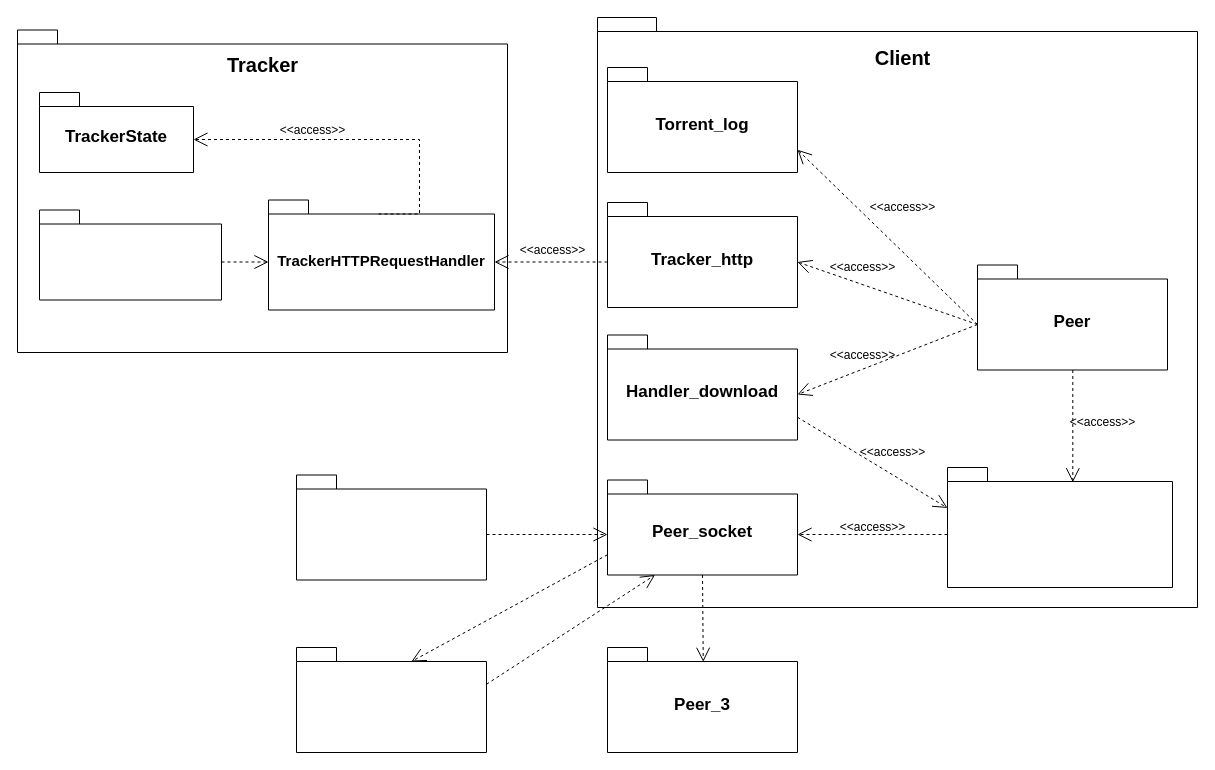
This 1215x770 diagram has some shape labels left out. Here are the shapes that lost their labels. From the top down, the box of each, then its label:
(38, 209, 222, 300): TrackerHTTPServer
(296, 474, 486, 580): Peer_1
(946, 466, 1172, 588): Peer_connection_helper
(296, 646, 486, 752): Peer_2
